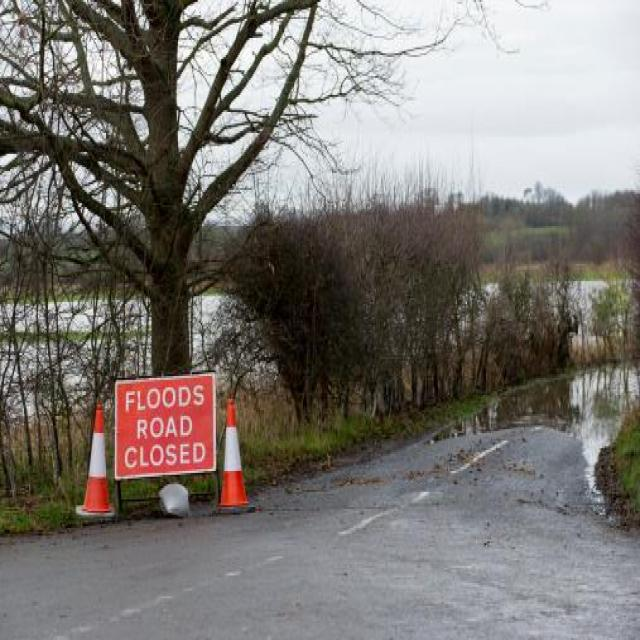Cone: (212, 399, 254, 511), (77, 402, 114, 518)
